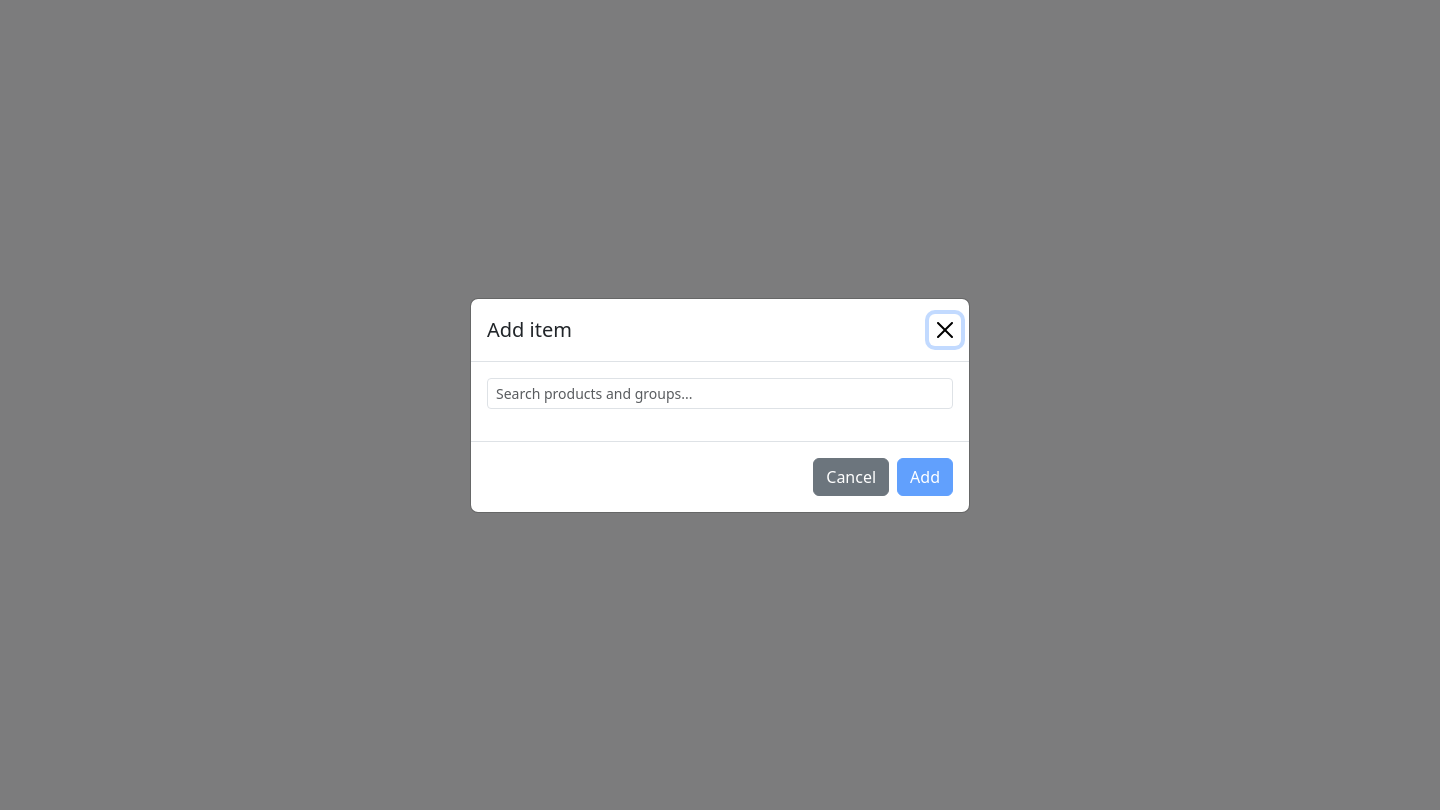
Test: ItemModal › add mode › shows selection without prep selector for groups
The image size is (1440, 810).
In the field with placeholder "Search products and groups...": [720, 393] box [487,378,953,408], type "overnight"
Wait 300 ms
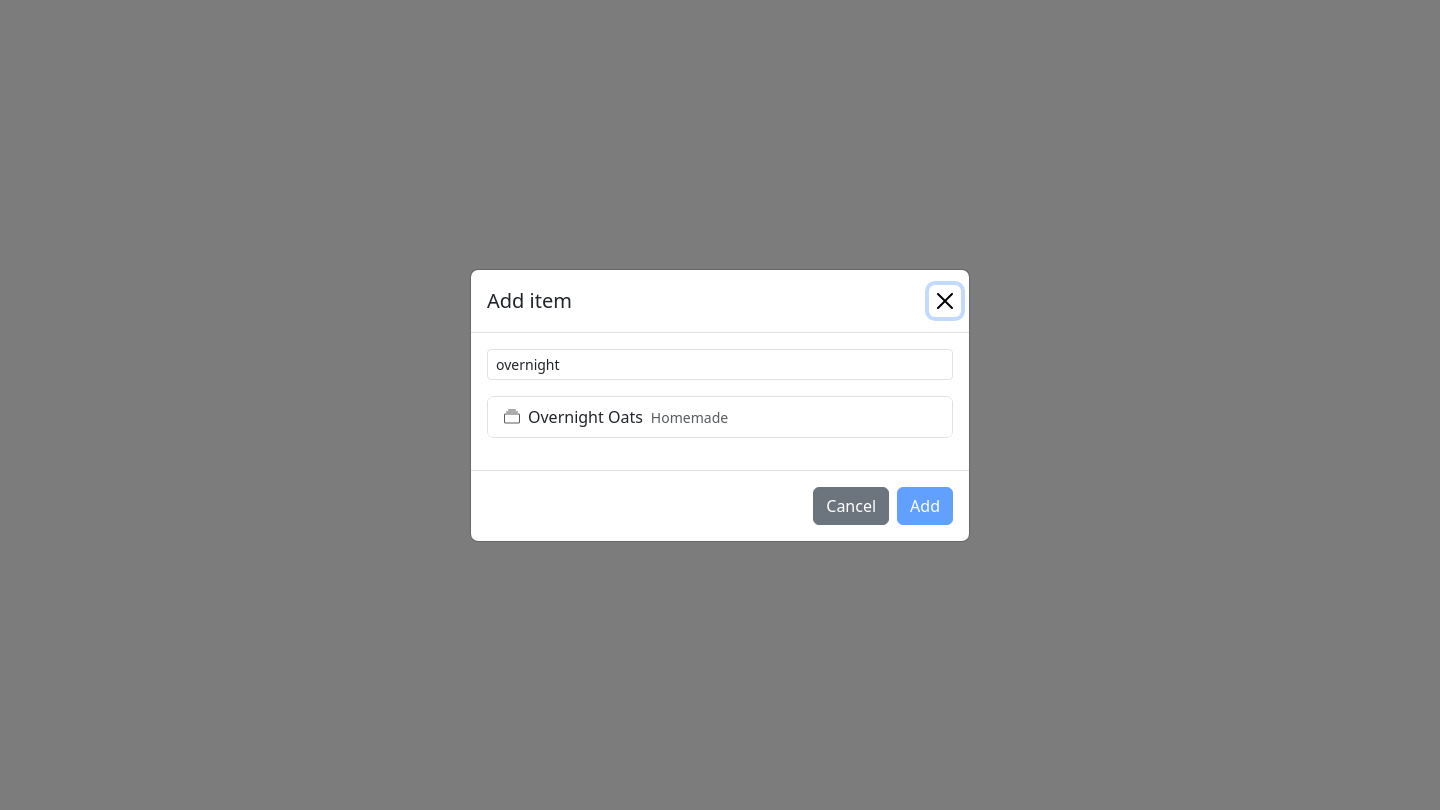
Now the text "Overnight Oats" is shown
Click the text "Overnight Oats": [585, 416] box [528,406,643,428]
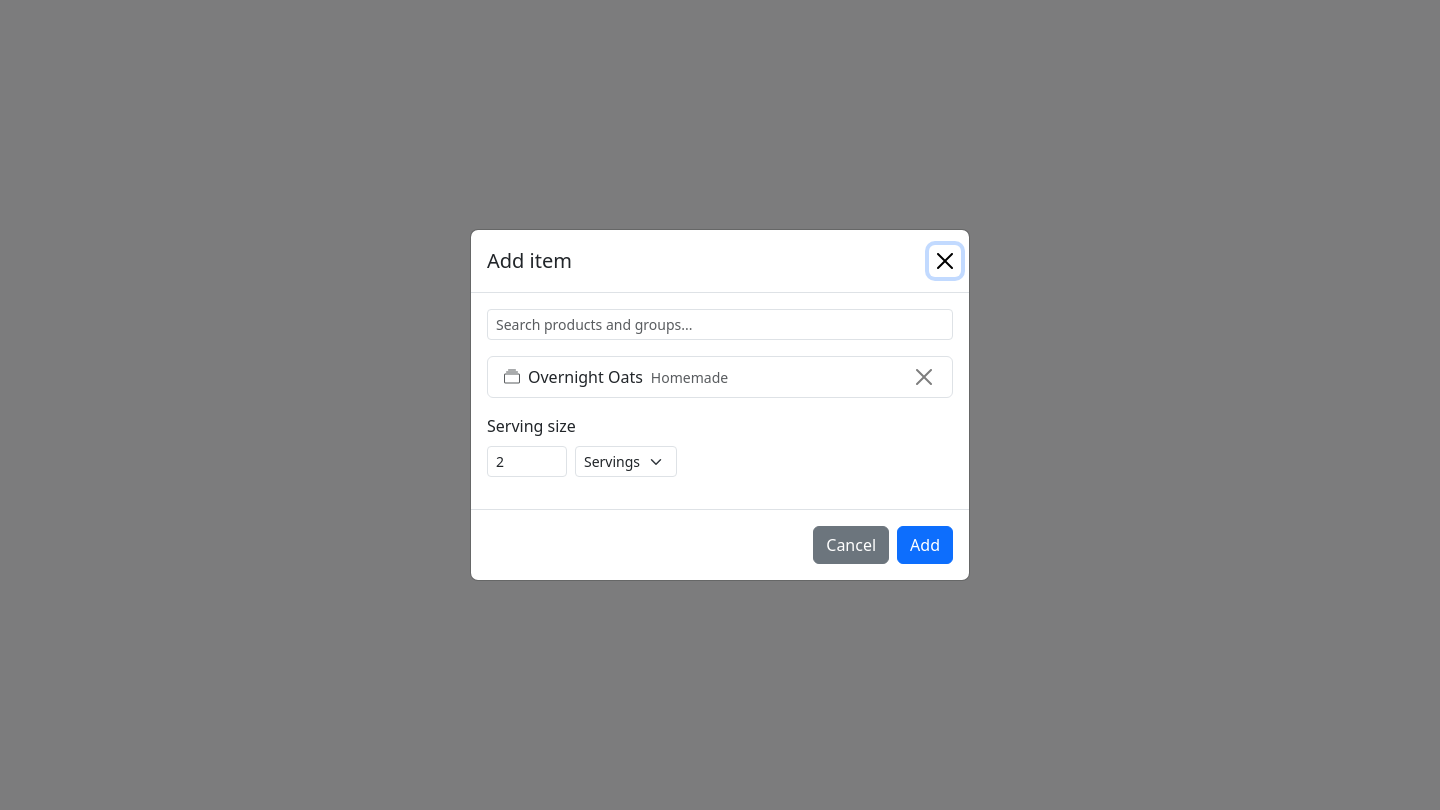
Now the button named "Clear selection" is shown, box [912,365,936,389]
Now the text "Serving size" is shown, box [487,415,576,437]
